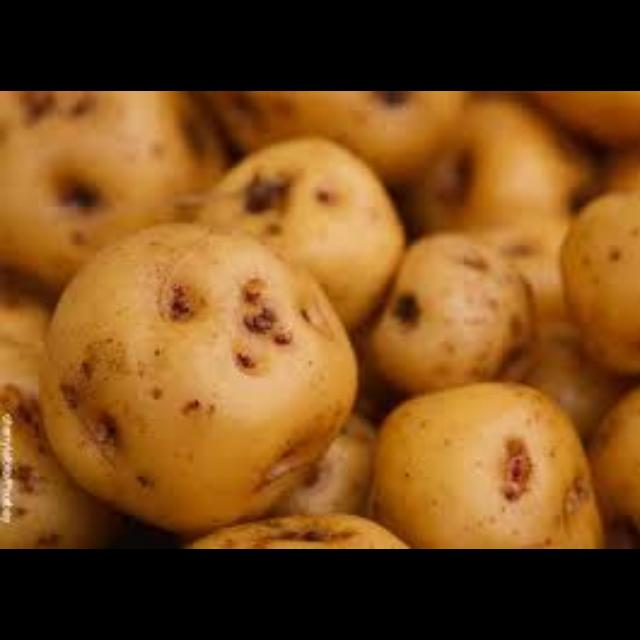Diseased-fungal potato: (28, 208, 360, 542), (196, 130, 412, 358), (368, 380, 600, 550), (359, 228, 545, 414)
